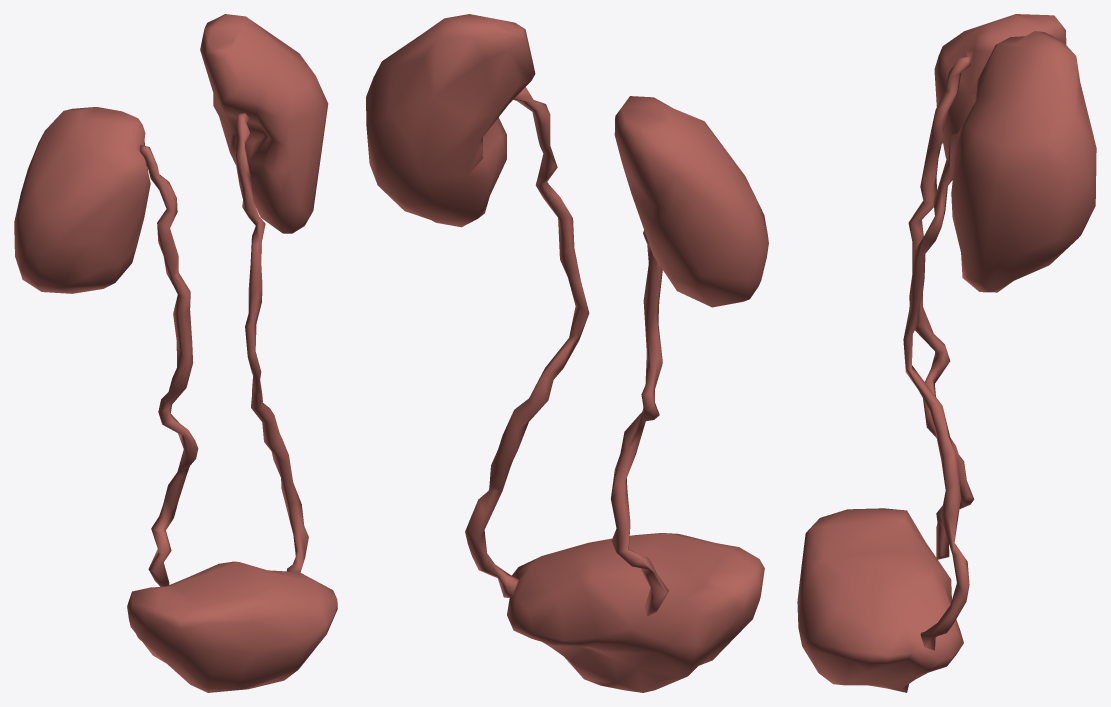
Rendered from icrp_adult_female.urinary.LOD2.glb.
3 views of the same model, side by side, from view 1: azimuth 30°, elevation 25°; view 2: azimuth 150°, elevation 25°; view 3: azimuth 270°, elevation 25° (orthographic). The views are drawn at different scales.
Parts seen in each view (by area): view 1: ICRP.ADULT.FEMALE.URINARY.KIDNEY_CORTEX.R, ICRP.ADULT.FEMALE.URINARY.URINARY_BLADDER_WALL, ICRP.ADULT.FEMALE.URINARY.KIDNEY_CORTEX.L, ICRP.ADULT.FEMALE.URINARY.URETER.R, ICRP.ADULT.FEMALE.URINARY.URETER.L; view 2: ICRP.ADULT.FEMALE.URINARY.URINARY_BLADDER_WALL, ICRP.ADULT.FEMALE.URINARY.KIDNEY_CORTEX.L, ICRP.ADULT.FEMALE.URINARY.KIDNEY_CORTEX.R, ICRP.ADULT.FEMALE.URINARY.URETER.L, ICRP.ADULT.FEMALE.URINARY.URETER.R; view 3: ICRP.ADULT.FEMALE.URINARY.KIDNEY_CORTEX.L, ICRP.ADULT.FEMALE.URINARY.URINARY_BLADDER_WALL, ICRP.ADULT.FEMALE.URINARY.URETER.L, ICRP.ADULT.FEMALE.URINARY.URETER.R, ICRP.ADULT.FEMALE.URINARY.KIDNEY_CORTEX.R.
Part boxes in pixels (x1,y1,x2,y2): ICRP.ADULT.FEMALE.URINARY.KIDNEY_CORTEX.R: [14, 107, 150, 293]; ICRP.ADULT.FEMALE.URINARY.URINARY_BLADDER_WALL: [127, 561, 337, 692]; ICRP.ADULT.FEMALE.URINARY.KIDNEY_CORTEX.L: [200, 14, 328, 233]; ICRP.ADULT.FEMALE.URINARY.URETER.R: [139, 145, 198, 586]; ICRP.ADULT.FEMALE.URINARY.URETER.L: [234, 113, 308, 572]; ICRP.ADULT.FEMALE.URINARY.URINARY_BLADDER_WALL: [507, 533, 764, 692]; ICRP.ADULT.FEMALE.URINARY.KIDNEY_CORTEX.L: [366, 14, 535, 227]; ICRP.ADULT.FEMALE.URINARY.KIDNEY_CORTEX.R: [614, 96, 768, 307]; ICRP.ADULT.FEMALE.URINARY.URETER.L: [465, 87, 589, 597]; ICRP.ADULT.FEMALE.URINARY.URETER.R: [611, 230, 668, 615]; ICRP.ADULT.FEMALE.URINARY.KIDNEY_CORTEX.L: [951, 31, 1096, 292]; ICRP.ADULT.FEMALE.URINARY.URINARY_BLADDER_WALL: [797, 508, 963, 692]; ICRP.ADULT.FEMALE.URINARY.URETER.L: [903, 132, 969, 650]; ICRP.ADULT.FEMALE.URINARY.URETER.R: [908, 56, 974, 559]; ICRP.ADULT.FEMALE.URINARY.KIDNEY_CORTEX.R: [934, 14, 1066, 158].
Bounding box in the file's own units: 0.1785 × 0.3257 × 0.1303.
